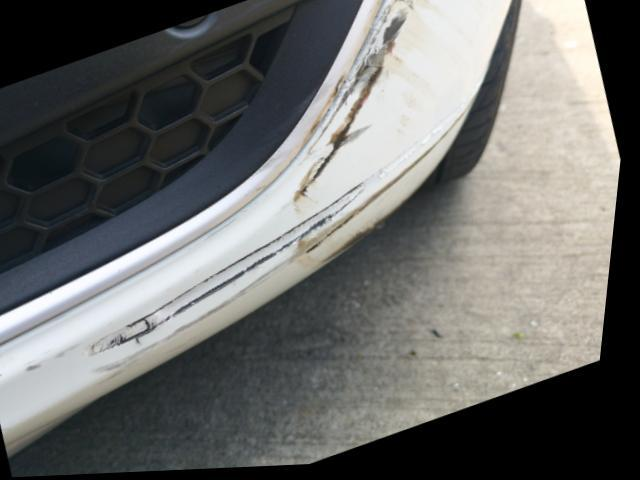scratch: (87, 0, 481, 381)
